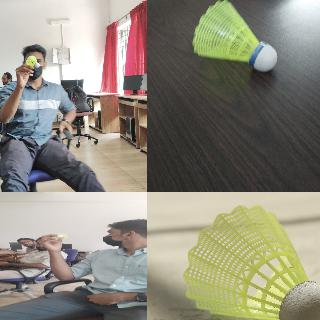shuttlecock: (183, 205, 319, 319), (192, 0, 277, 72), (26, 55, 38, 67), (52, 233, 68, 240)
